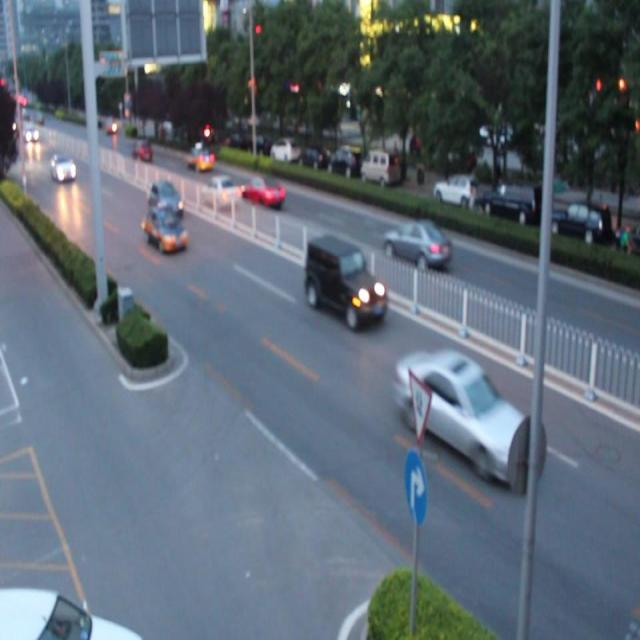car: (399, 351, 536, 482), (1, 585, 139, 640), (307, 239, 385, 325), (385, 220, 447, 266), (141, 210, 186, 252), (242, 176, 281, 208), (202, 176, 240, 208), (148, 183, 182, 216), (184, 148, 212, 171)
